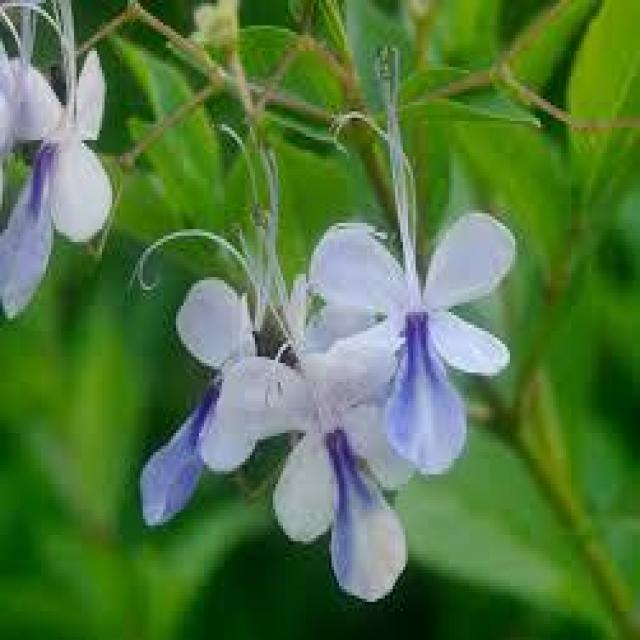organic waste: (180, 274, 427, 586), (324, 202, 525, 486), (1, 13, 111, 296)
